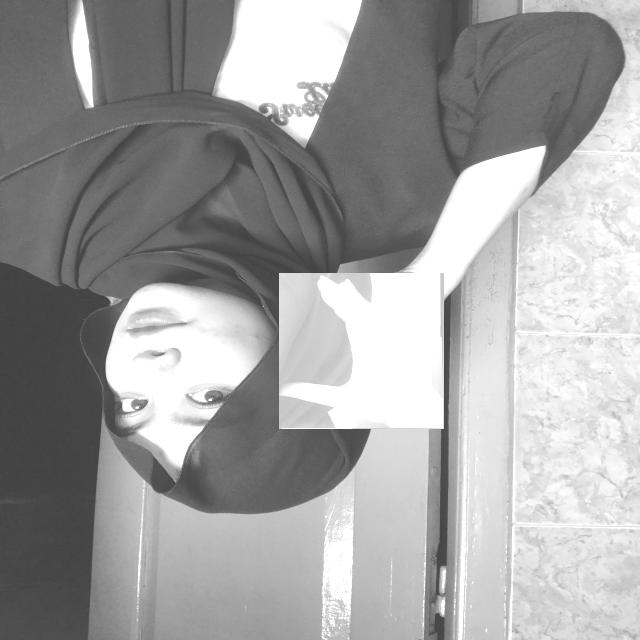mendengar: (279, 273, 444, 429)
